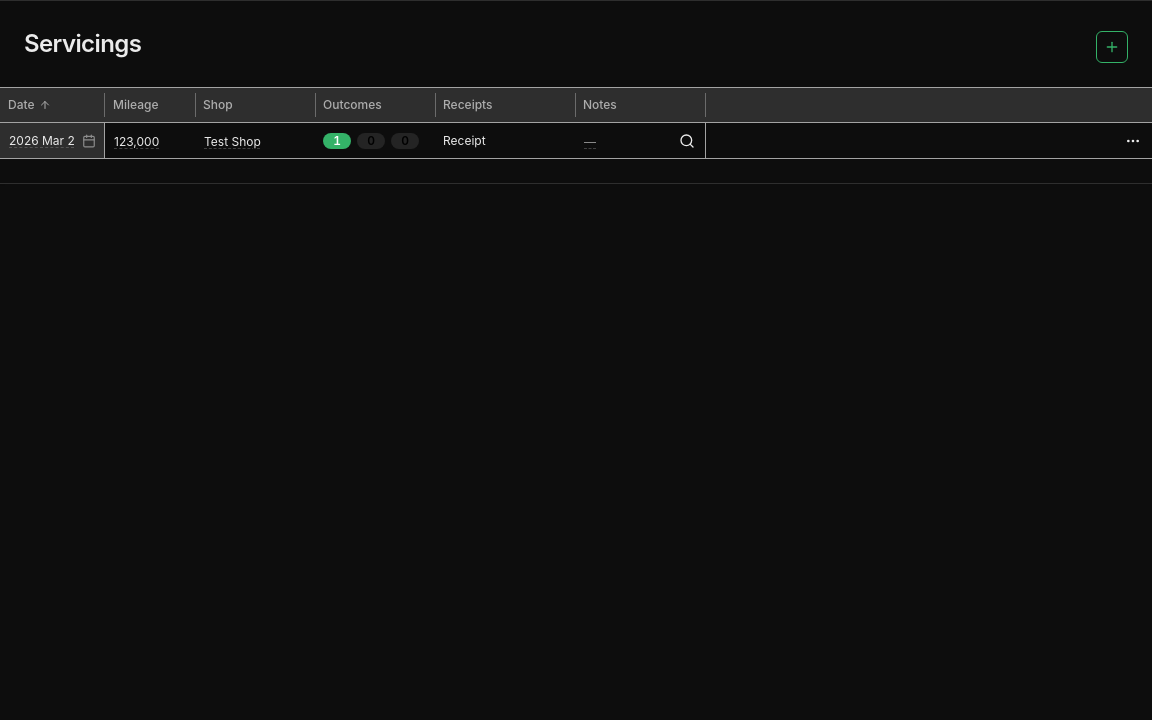
Test: GarageServicingsGrid servicing dialog › submits edits to existing receipt names without changing file metadata
Later steps or results of the test are not shown.
Step 1. Click the button with aria-label "Open Servicing Detail for 2026-03-02" → [505, 141], box [443,123,567,159]
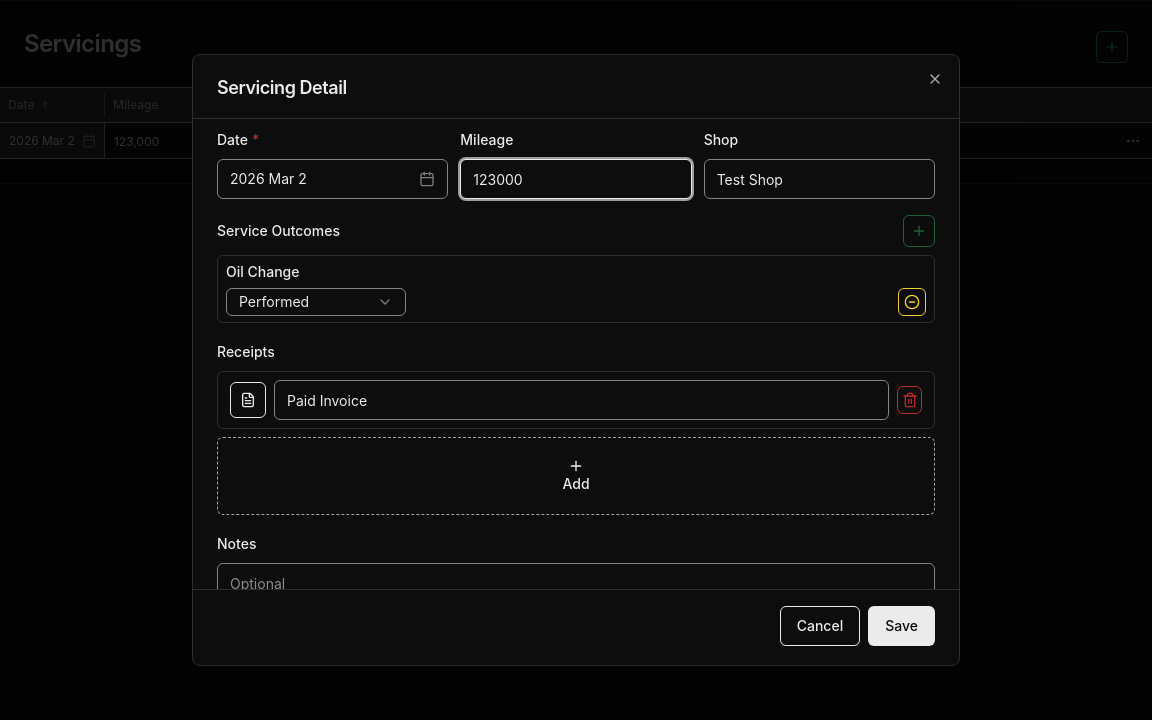
Check: the field named "Receipt Name for receipt.pdf" is shown, box [274,380,889,420]
